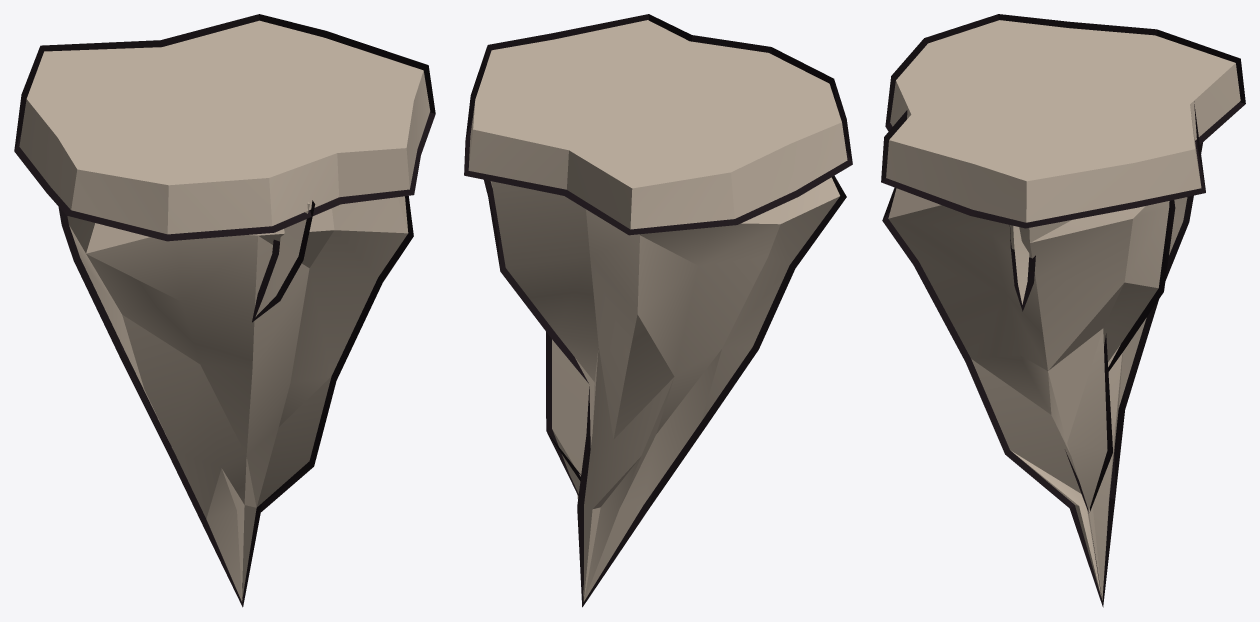
Rendered from SM_Trail_Islet_03.fbx.
3 views of the same model, side by side, from view 1: azimuth 30°, elevation 25°; view 2: azimuth 150°, elevation 25°; view 3: azimuth 270°, elevation 25° (orthographic). The views are drawn at different scales.
Visible parts, largest first — view 1: SM_Trail_Islet_03; view 2: SM_Trail_Islet_03; view 3: SM_Trail_Islet_03.
Boxes of the visible parts, x1,y1,x2,y2 form: SM_Trail_Islet_03: (14,14,435,607); SM_Trail_Islet_03: (464,14,852,607); SM_Trail_Islet_03: (881,14,1245,607).
Bounding box in the file's own units: 8.56 × 11.53 × 7.71.
